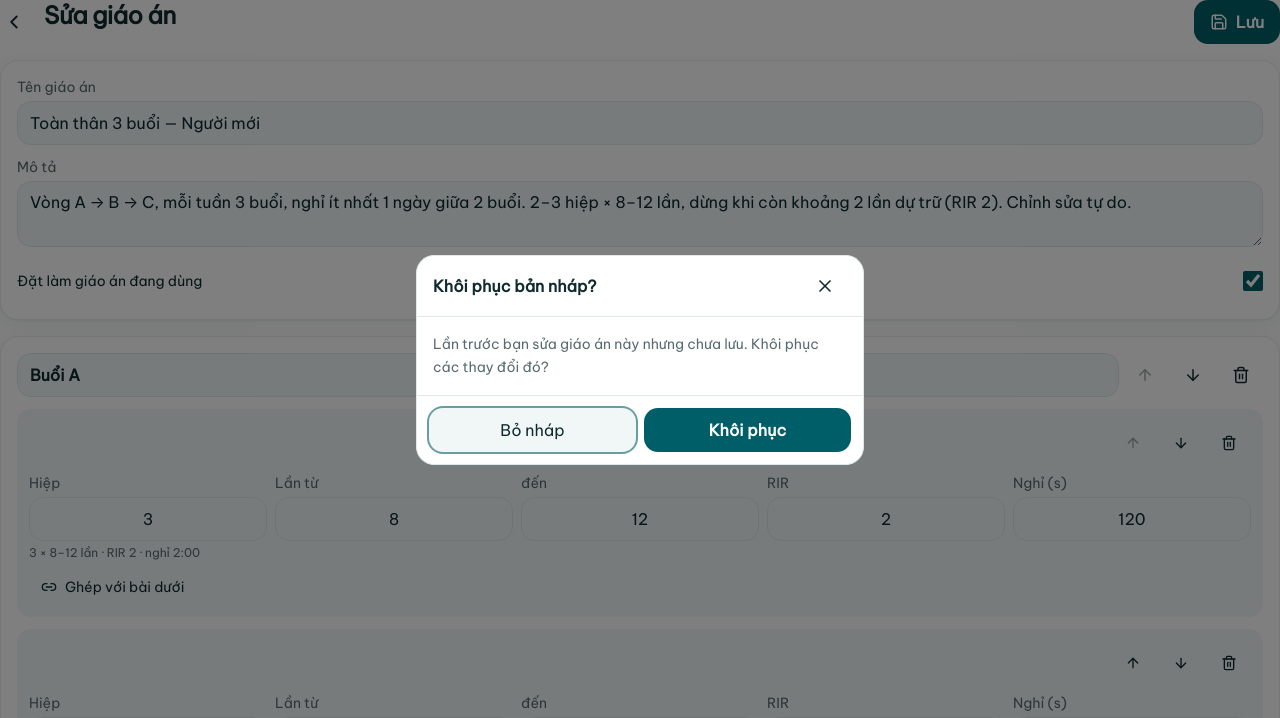
Test: ProgramEditor — thay đổi chưa lưu › mở lại khi còn bản nháp → hỏi "Khôi phục bản nháp?"; đồng ý thì nạp nháp
Expected: the dialog "Khôi phục bản nháp?" is shown, top-left (416, 255), bottom-right (864, 465)
Click the button "Khôi phục" at (748, 430), box top-left (644, 408), bottom-right (851, 452)
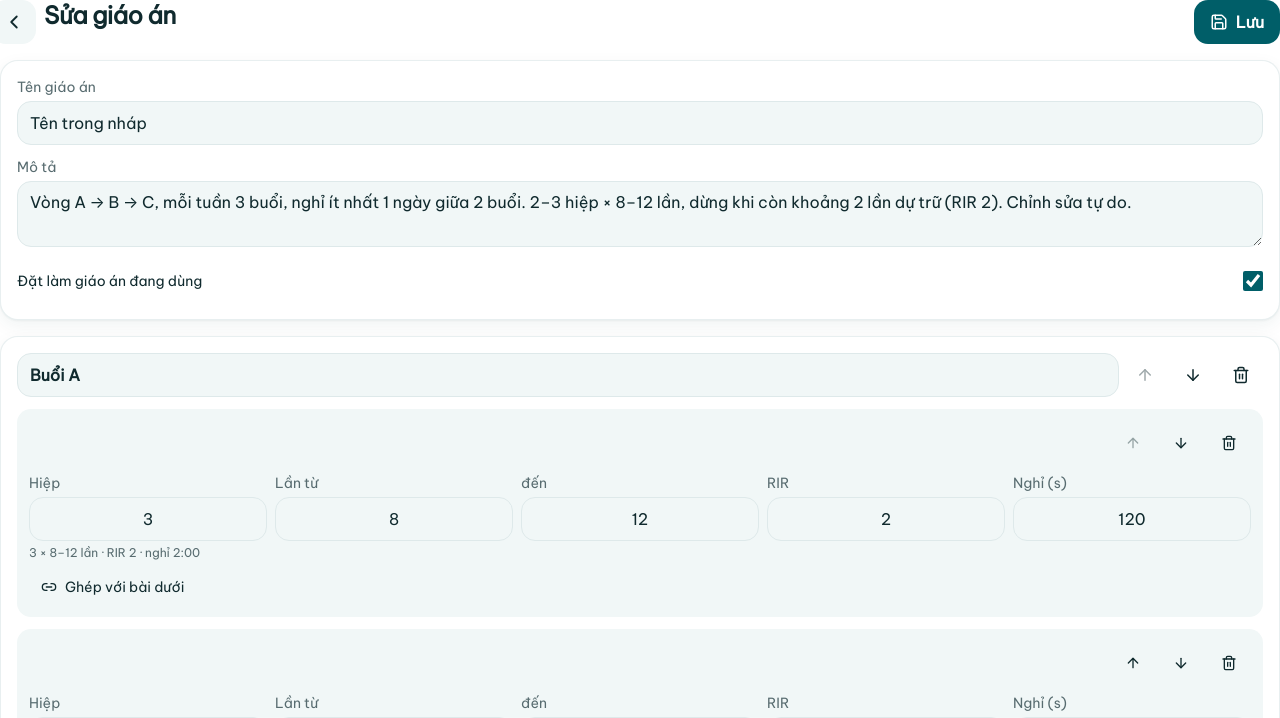
Now the field labelled "Tên giáo án" holds "Tên trong nháp", box top-left (17, 101), bottom-right (1263, 145)
